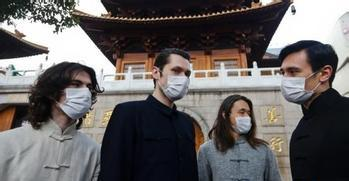OK: (56, 74, 95, 118), (281, 67, 321, 105), (157, 64, 193, 100), (229, 106, 255, 134)
